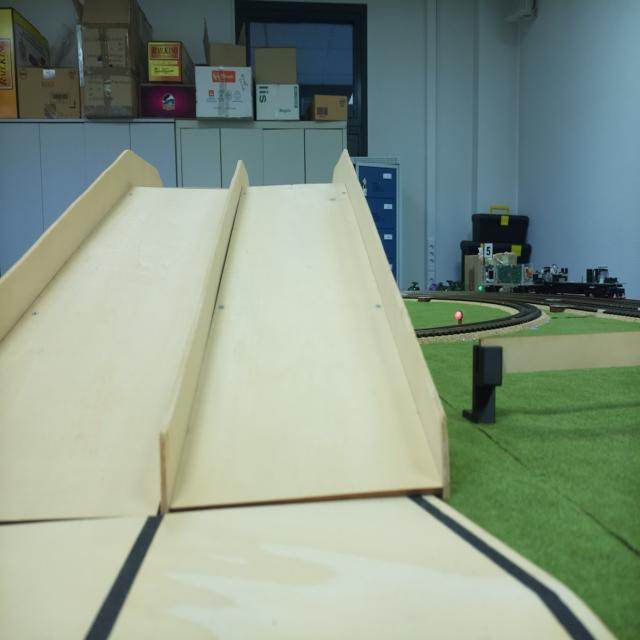pont: (4, 156, 444, 498)
